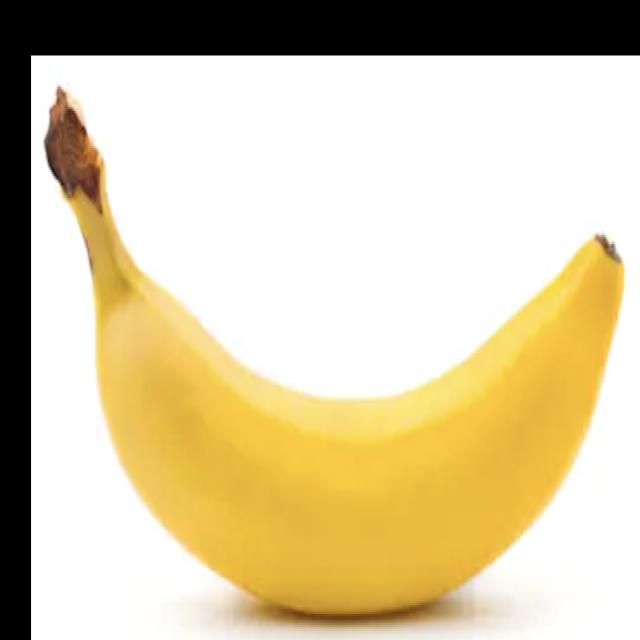Ripe: (39, 65, 635, 622)
